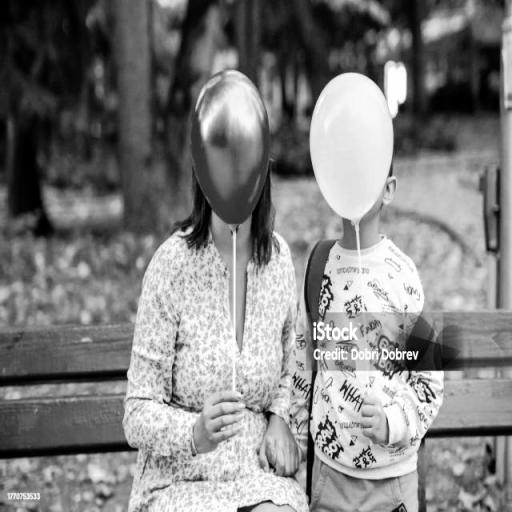balloon: (190, 64, 272, 236)
